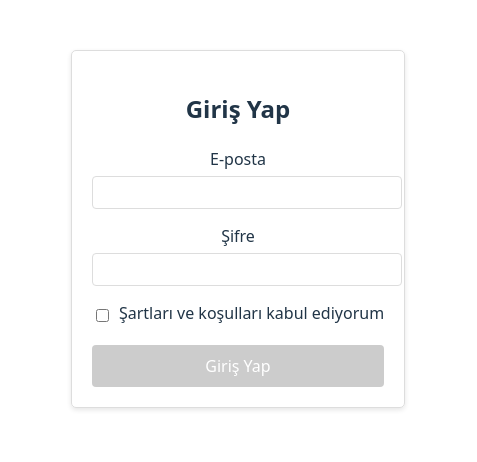
Test: Login Form Tests › shows error messages for invalid email and password
Type "invalid-email" into the field with test id "email-input" at point(247, 193), box [92,176,402,209]
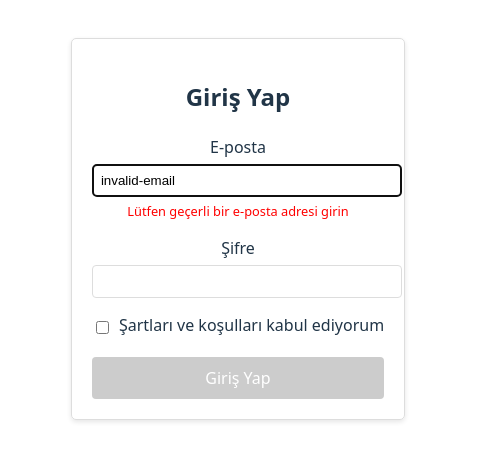
Type "weak" into the password field with test id "password-input" at point(247, 282), box [92,265,402,298]
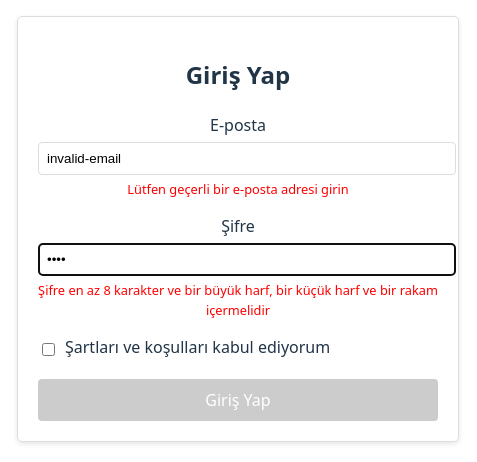
Check: the button with test id "login-button" is disabled, box [38,379,438,421]
Check: the number of elements with class "error-message" is 2, box [127,180,349,198]; [38,281,438,320]
Check: the text with test id "password-error" is shown, box [38,281,438,319]
